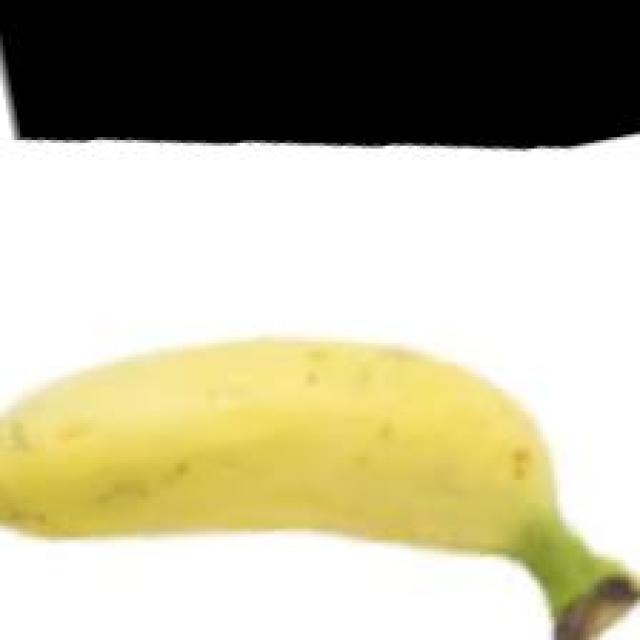banana: (17, 292, 640, 637)
